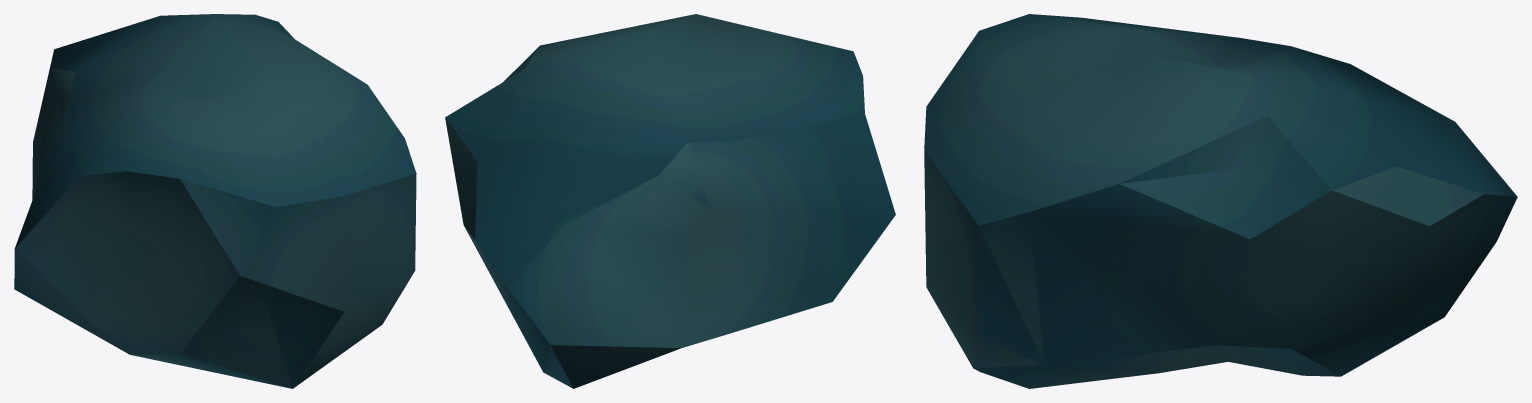
File: Rock7.FBX
3 renders of one model, left to right at view 1: azimuth 30°, elevation 25°; view 2: azimuth 150°, elevation 25°; view 3: azimuth 270°, elevation 25°, orthographic. The views are drawn at different scales.
Parts seen in each view (by area): view 1: Rock_5_Big; view 2: Rock_5_Big; view 3: Rock_5_Big.
Boxes of the visible parts, x1,y1,x2,y2 form: Rock_5_Big: (14,14,416,388); Rock_5_Big: (445,14,895,388); Rock_5_Big: (924,14,1517,388).
Size of the model in its own units: 149 by 111 by 177.
